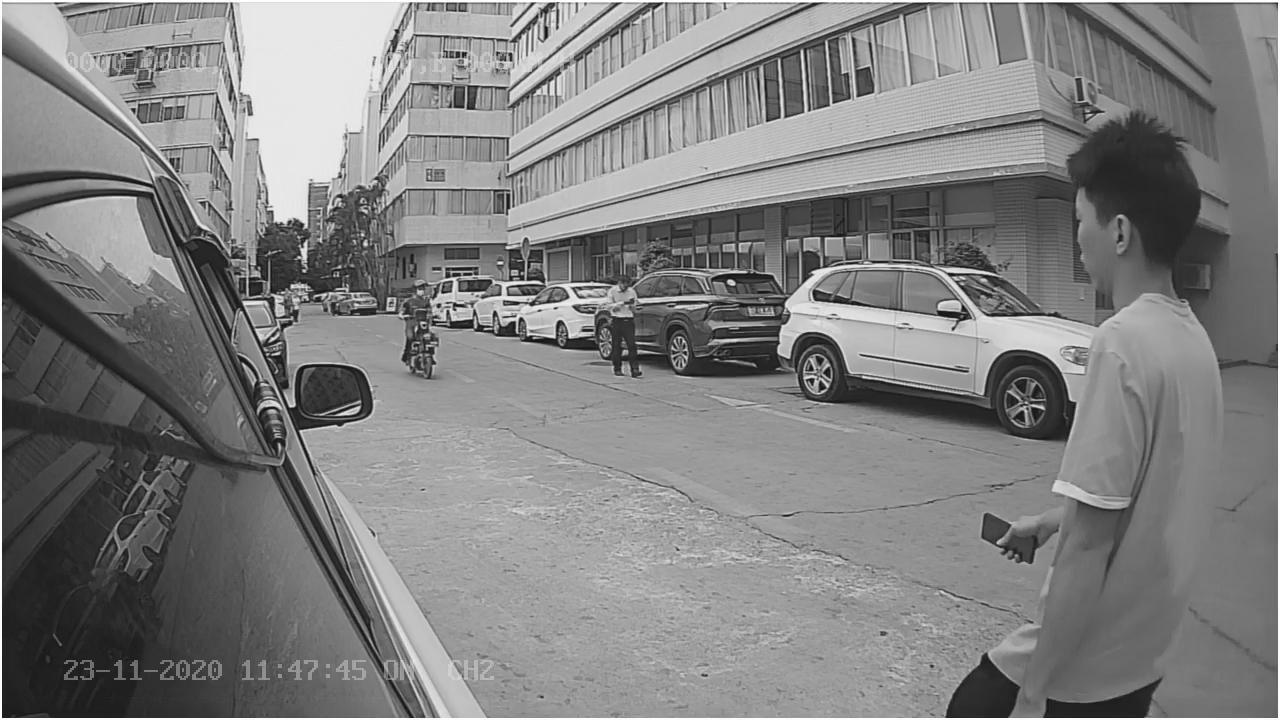person: (978, 102, 1231, 571)
